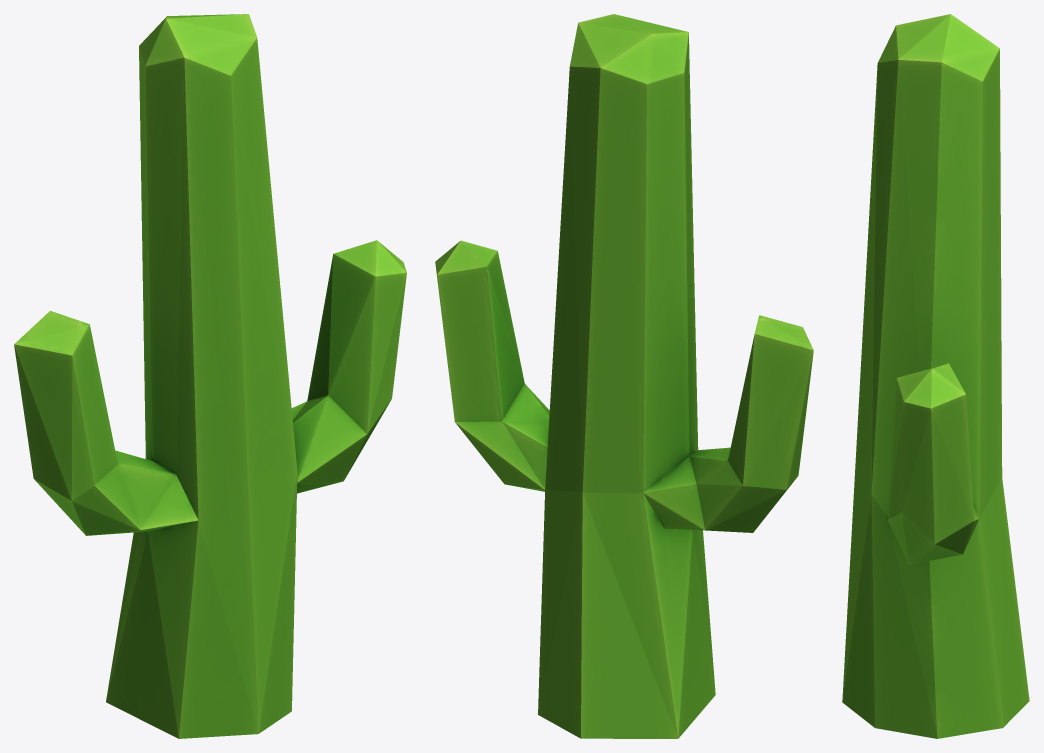
File: Cactus_23.fbx
3 renders of one model, left to right at view 1: azimuth 30°, elevation 25°; view 2: azimuth 150°, elevation 25°; view 3: azimuth 270°, elevation 25°, orthographic. The views are drawn at different scales.
Parts seen in each view (by area): view 1: Cactus_23; view 2: Cactus_23; view 3: Cactus_23.
Boxes of the visible parts, <box> form: Cactus_23: <box>14,14,406,738</box>; Cactus_23: <box>435,14,813,738</box>; Cactus_23: <box>842,14,1029,738</box>.
Size of the model in its own units: 35.77 by 15.38 by 60.91.
1 material, 1 textured.
